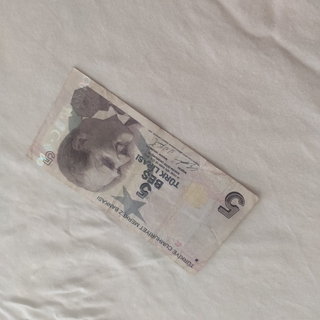5TLFront: (26, 67, 260, 274)
